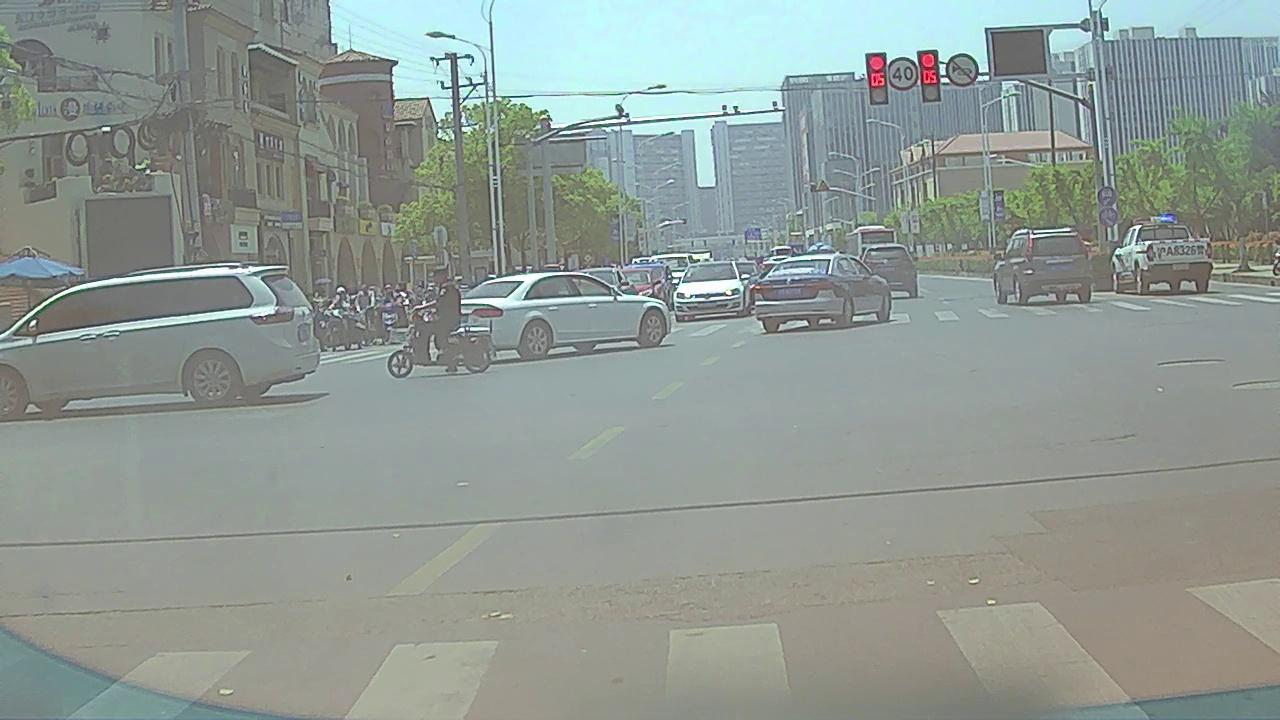traffic_light: (918, 48, 941, 103), (867, 53, 889, 105)
